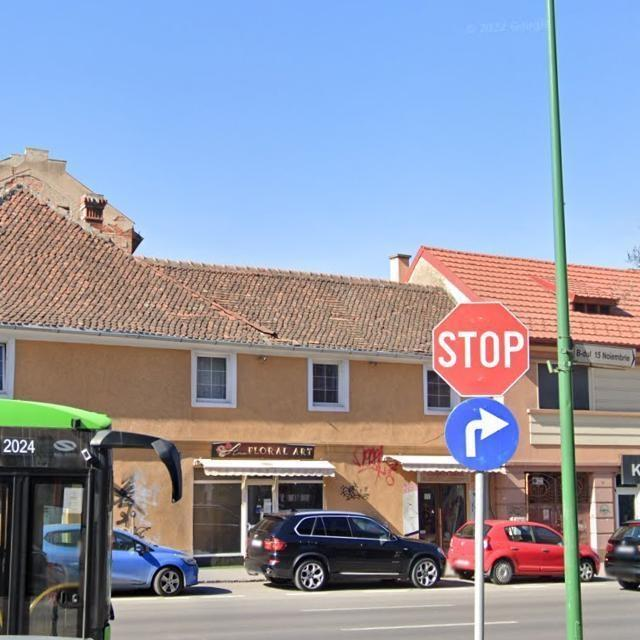prio_stop: (430, 301, 530, 396)
